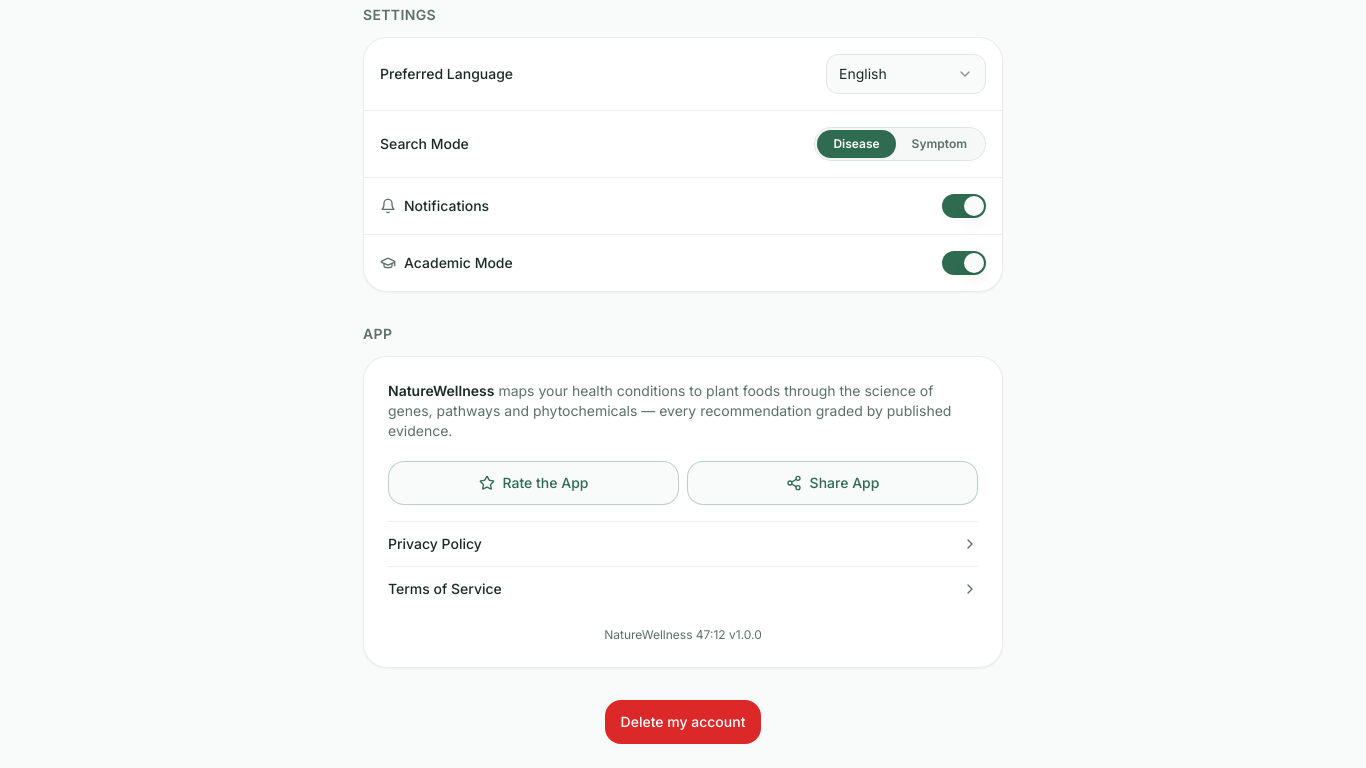
Profile account deletion › deletes, signs out, clears nw_ keys and goes home on success
(page scrolled)
Click the button "Delete my account" at (683, 722), box [605,700,761,744]
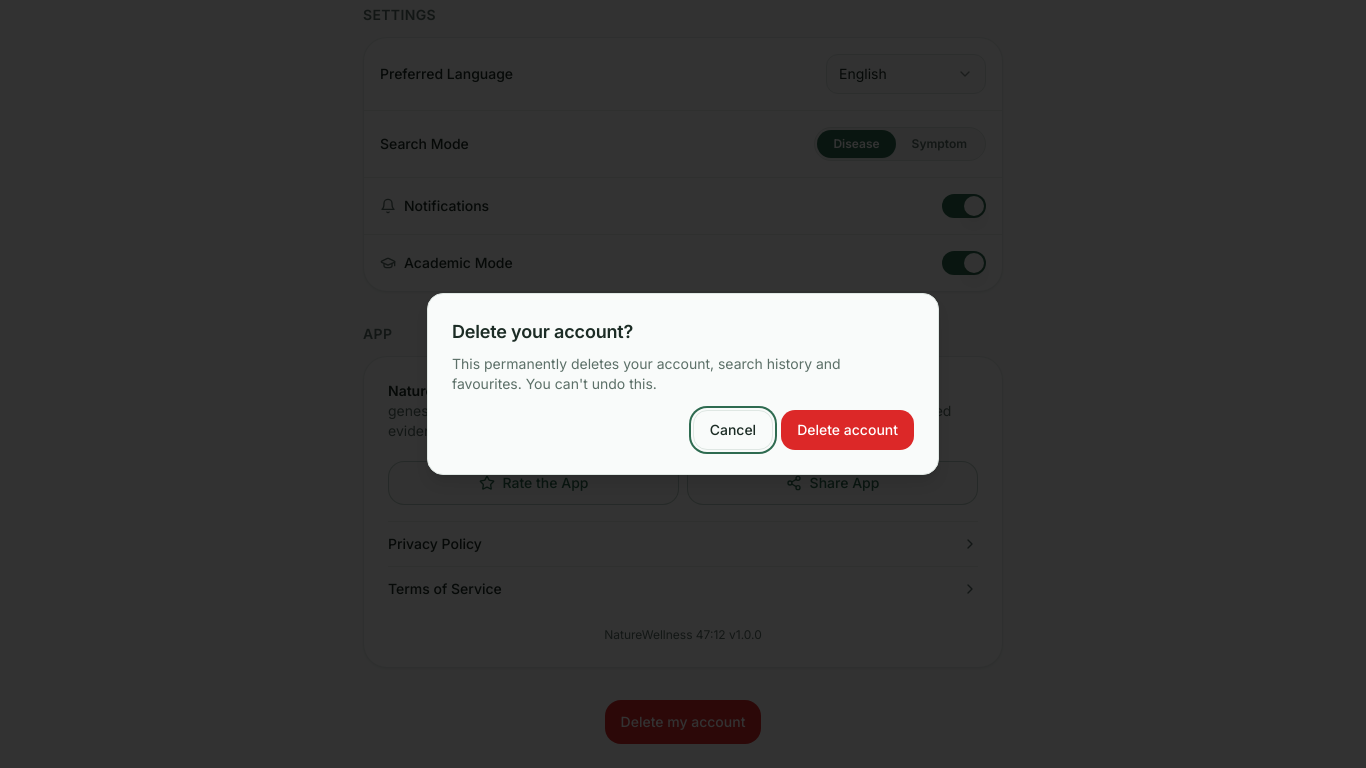
Expected: the heading "Delete your account?" is shown, [452,321,633,342]
Click the button "Delete account" at (848, 430), box [781,410,914,450]
(page scrolled)
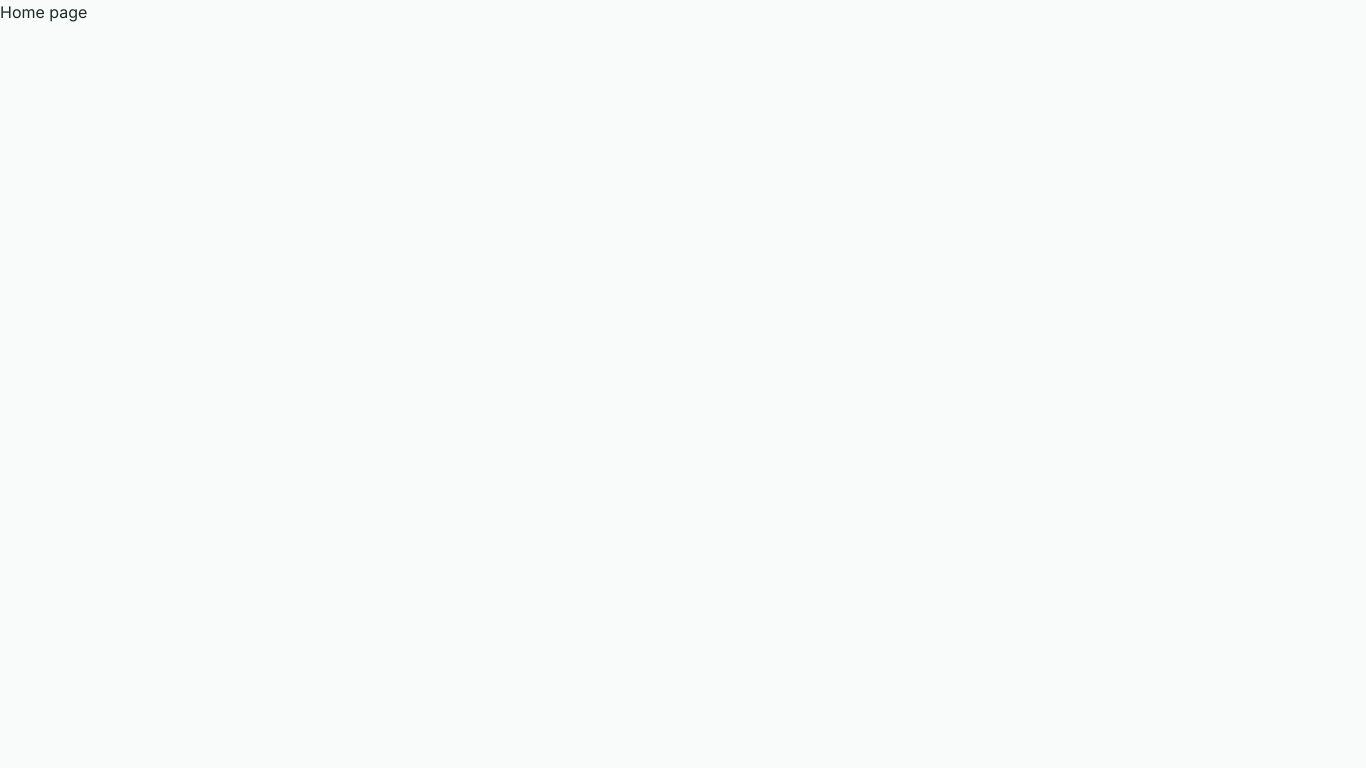
Expected: the text "Home page" is shown, [0,2,87,22]
